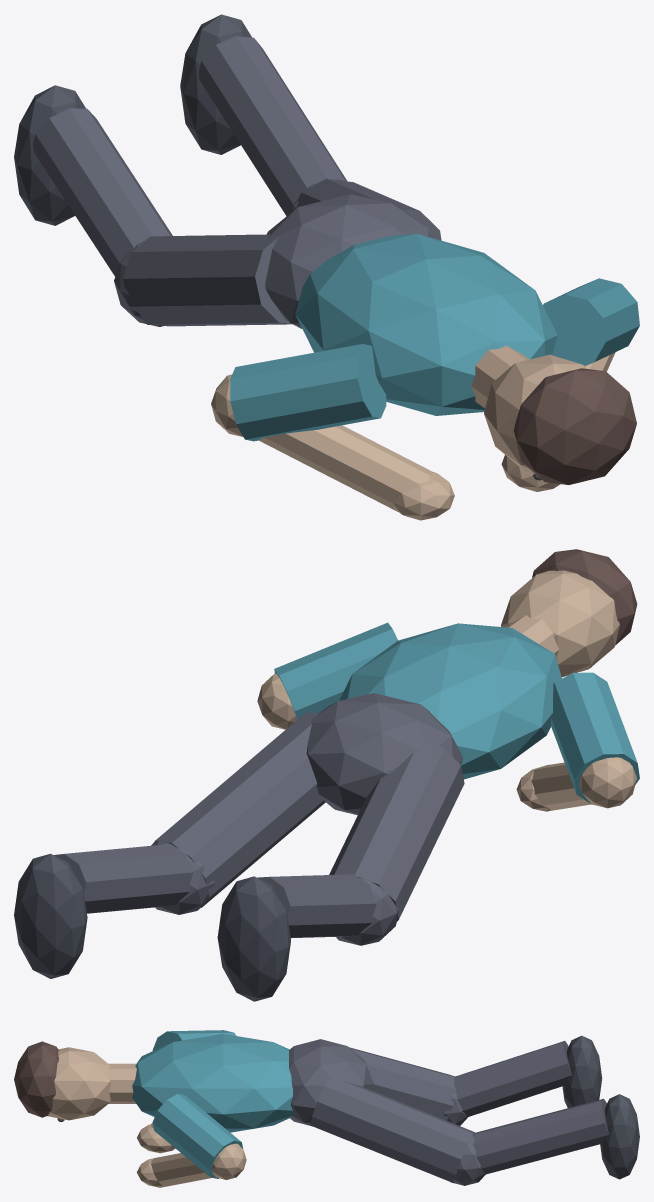
3 renders of one model, top to bottom at view 1: azimuth 30°, elevation 25°; view 2: azimuth 150°, elevation 25°; view 3: azimuth 270°, elevation 25°, orthographic. The views are drawn at different scales.
Parts seen in each view (by area): view 1: world; view 2: world; view 3: world.
Boxes of the visible parts, x1,y1,x2,y2 form: world: (14,14,639,520); world: (14,549,639,1001); world: (14,1030,639,1187).
Bounding box in the file's own units: 0.93 × 0.435 × 1.99.
